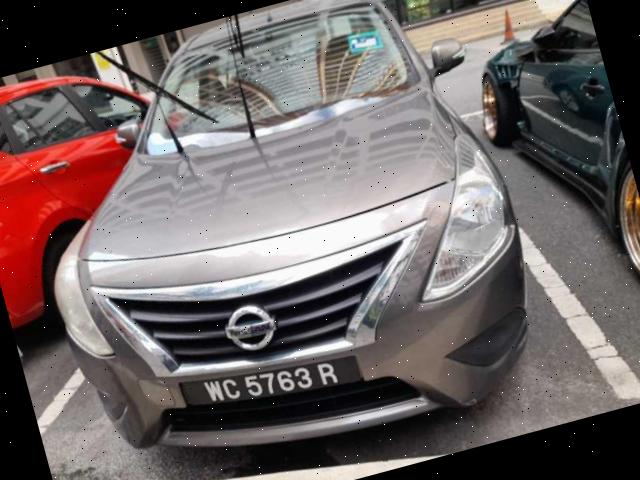License_Plate: (178, 337, 363, 428)
car: (1, 1, 562, 480)
